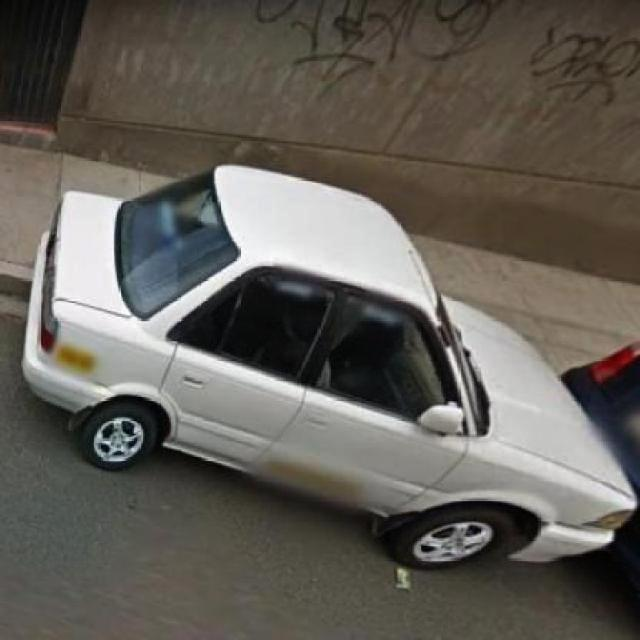car: (24, 165, 640, 576)
